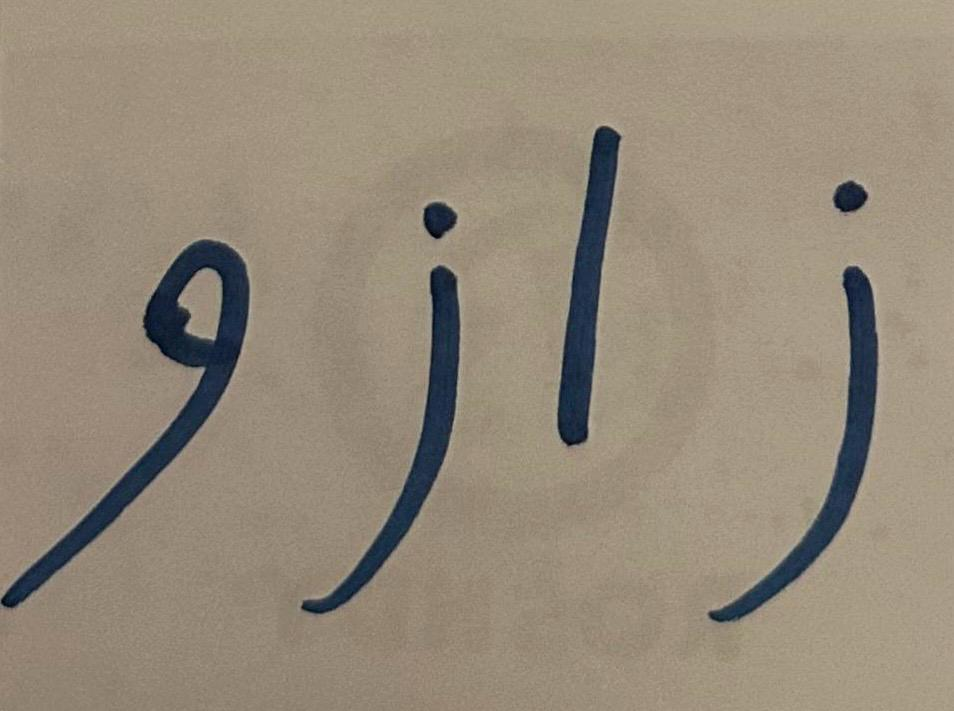alef: (505, 57, 667, 524)
hamza: (671, 137, 939, 664), (274, 171, 504, 633)
yeh: (1, 135, 271, 630)
